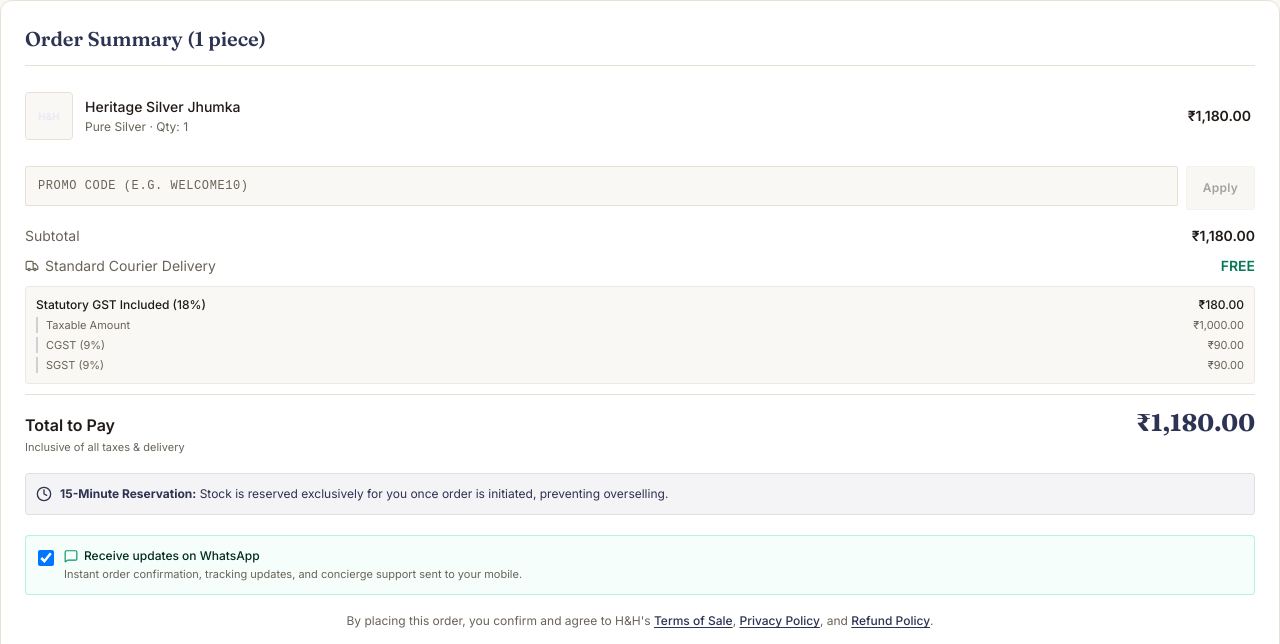
OrderReviewCard Component › applies promotional coupon code and shows discount row
Type "WELCOME10" into the field with placeholder "PROMO CODE (e.g. WELCOME10)". click: coordinates (601, 186)
box: [25, 166, 1178, 206]
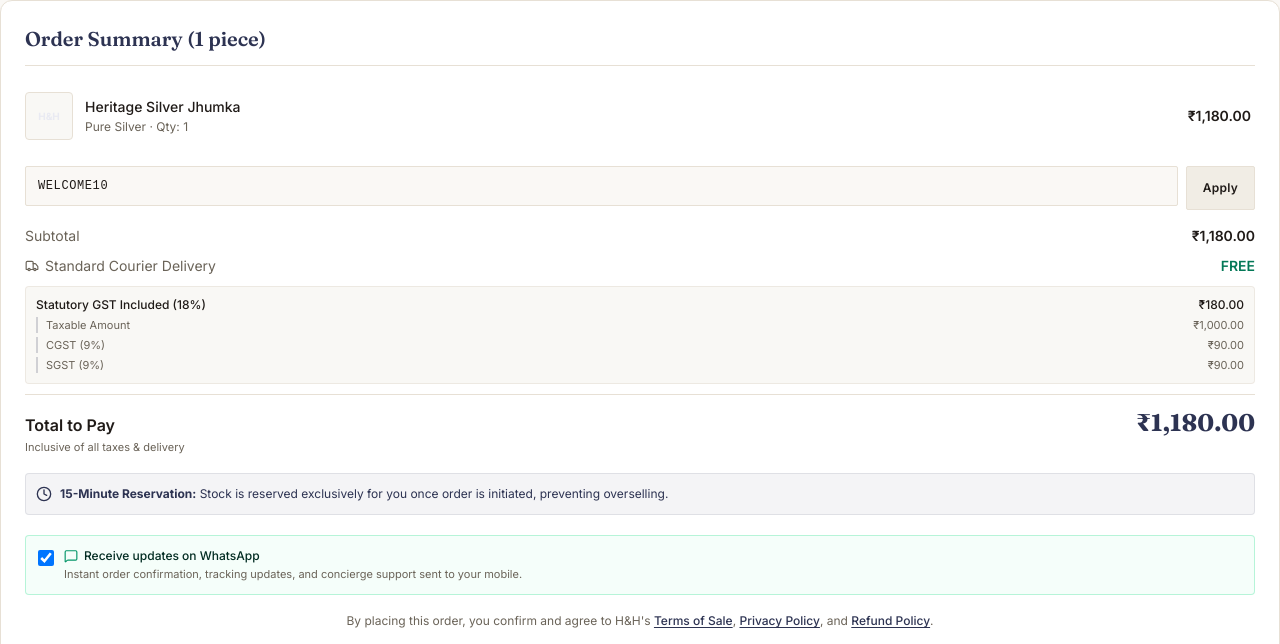
Click the button "Apply". click: coordinates (1220, 188)
box: [1186, 166, 1255, 210]
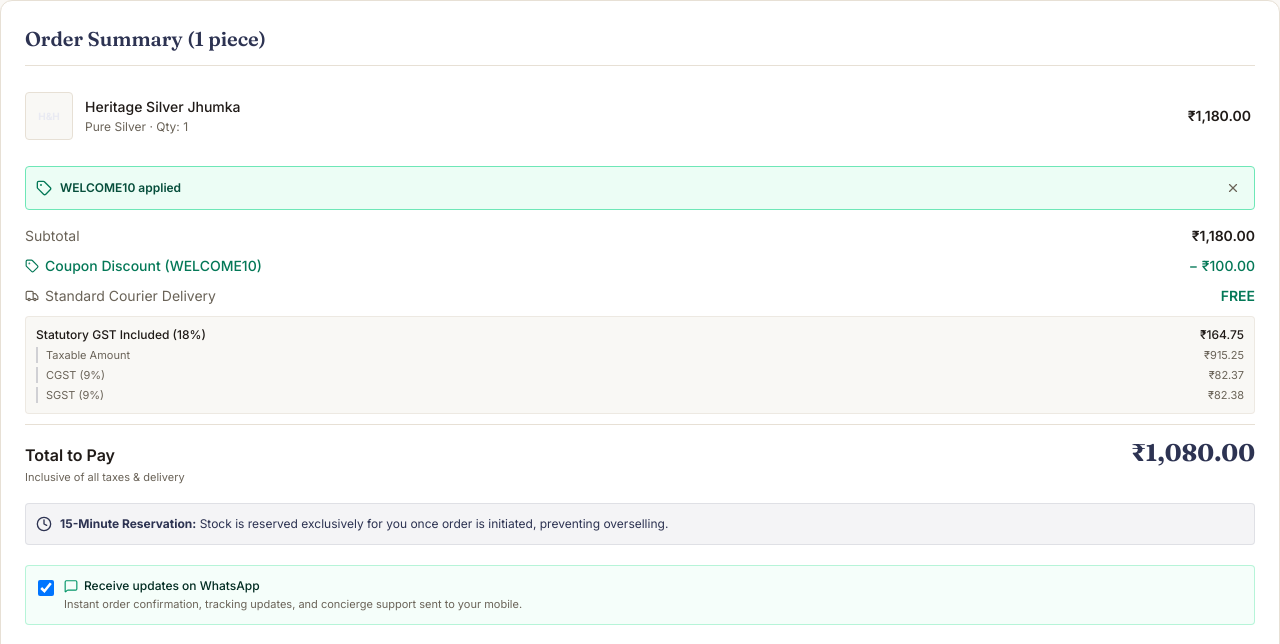
expect the text "WELCOME10 applied" is shown: met, box [60, 180, 181, 196]
expect the text "Coupon Discount (WELCOME10)" is shown: met, box [45, 256, 262, 276]
